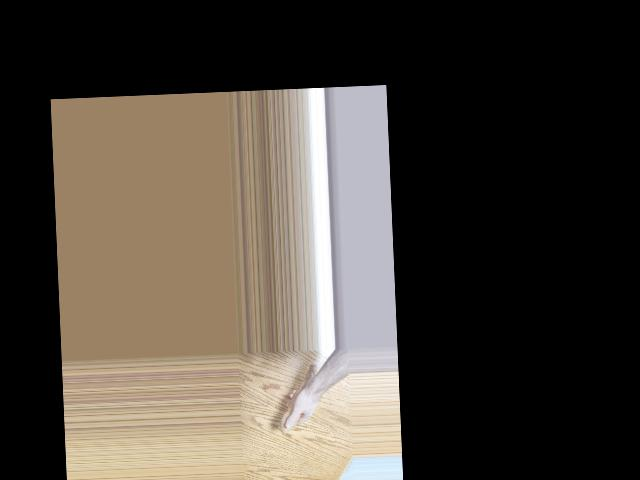sweet_potato: (276, 352, 320, 434)
